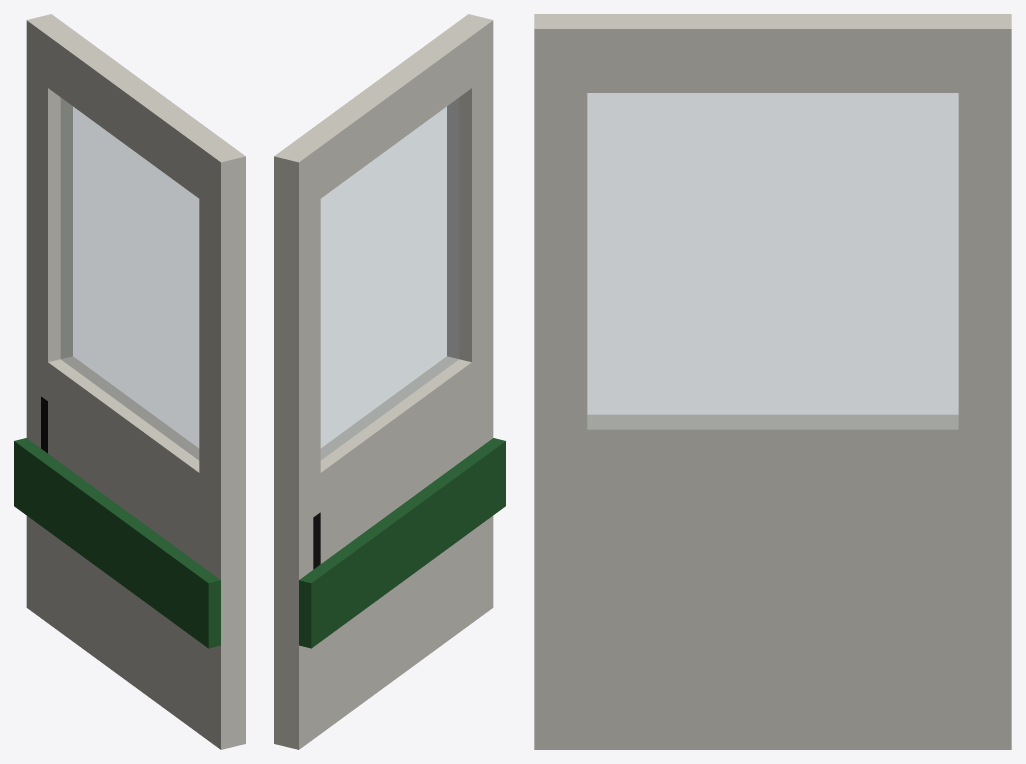
Rendered from camper_van_rear_door.glb.
3 views of the same model, side by side, from view 1: azimuth 30°, elevation 25°; view 2: azimuth 150°, elevation 25°; view 3: azimuth 270°, elevation 25° (orthographic). The views are drawn at different scales.
Visible parts, largest first — view 1: body:compound; view 2: body:compound; view 3: body:compound.
Boxes of the visible parts, box(x1,y1,x2,y2) form: body:compound: box(14, 14, 245, 749); body:compound: box(274, 14, 505, 749); body:compound: box(534, 14, 1011, 749).
Bounding box in the file's own units: 0.0938 × 1.41 × 0.8438.
